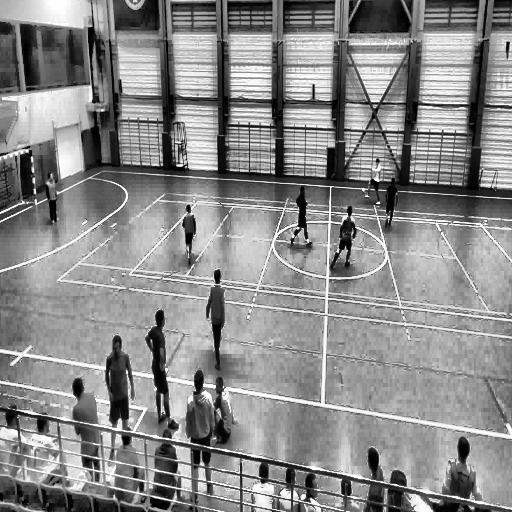ball: (358, 186, 367, 196)
player: (185, 370, 216, 500), (146, 309, 175, 428), (106, 334, 134, 448), (206, 268, 226, 367), (330, 205, 356, 268), (289, 186, 313, 247), (182, 202, 196, 268), (46, 170, 60, 224), (385, 176, 398, 228), (369, 158, 382, 204)
